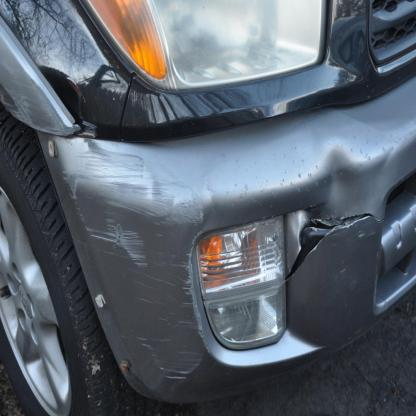front_bumper: (33, 77, 414, 401)
headlamp: (80, 3, 325, 92), (199, 217, 285, 348)
